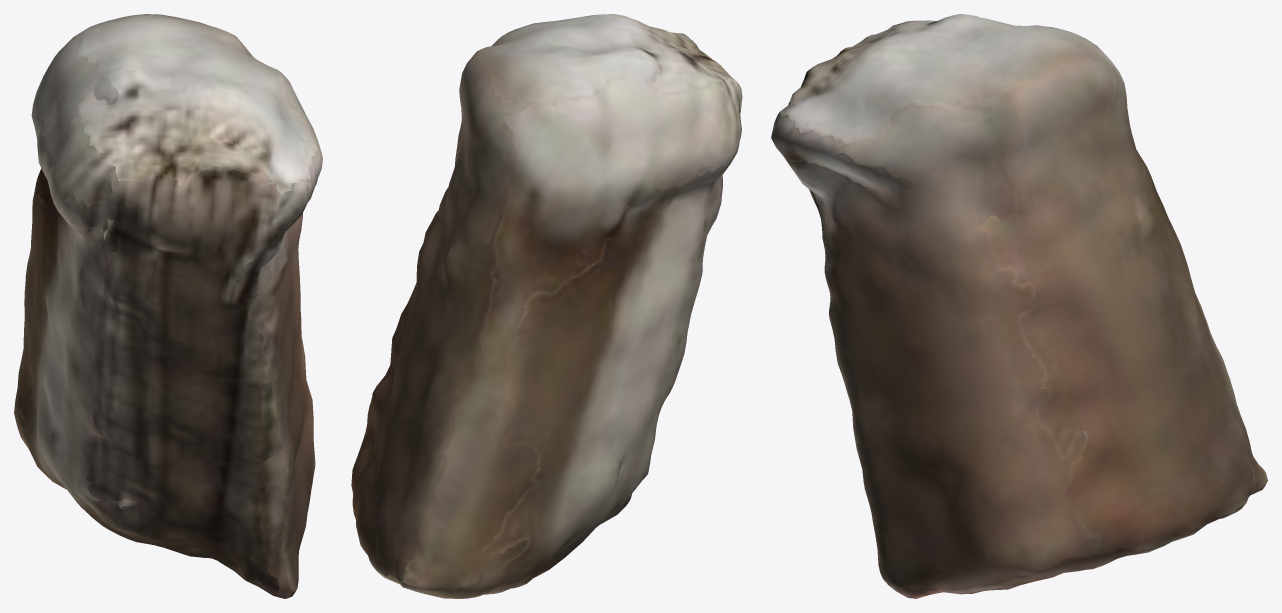
File: 17_basket.glb
The picture shows the model from 3 angles, left to right: view 1: azimuth 30°, elevation 25°; view 2: azimuth 150°, elevation 25°; view 3: azimuth 270°, elevation 25°; orthographic projection. The views are drawn at different scales.
Parts seen in each view (by area): view 1: 17_basket; view 2: 17_basket; view 3: 17_basket.
Part boxes in pixels (x1=…): 17_basket: x1=14, y1=14, x2=322, y2=598; 17_basket: x1=351, y1=14, x2=742, y2=598; 17_basket: x1=771, y1=14, x2=1267, y2=598.
Bounding box in the file's own units: 0.3328 × 0.5615 × 0.4809.
1 material, 1 textured.
